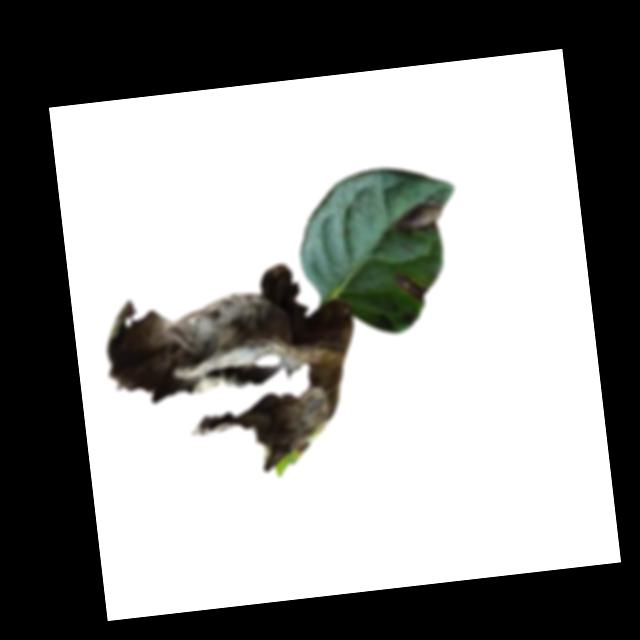Early_blight: (102, 257, 372, 488), (389, 196, 451, 234), (395, 270, 430, 304)
